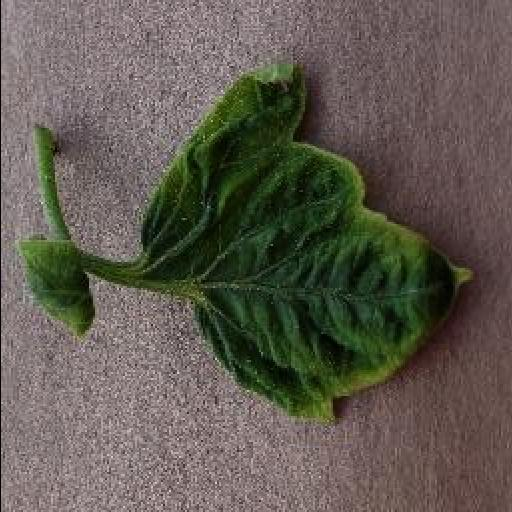disease_tomato: (140, 68, 474, 430)
